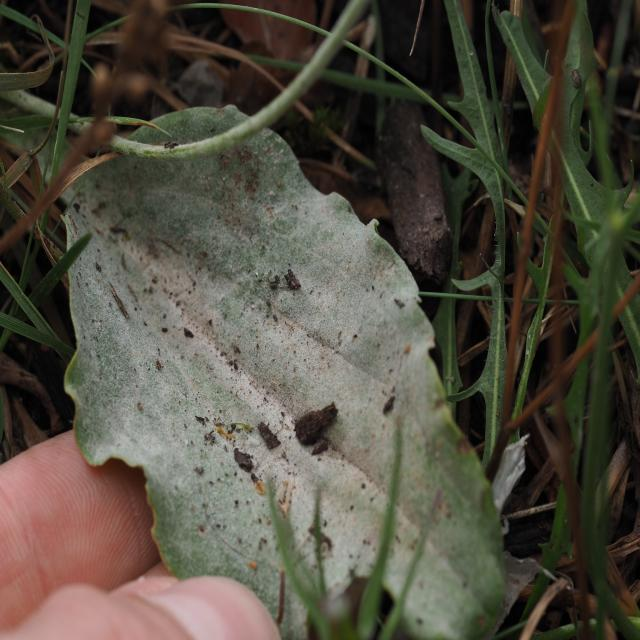powdery_mildew: (66, 129, 504, 638)
